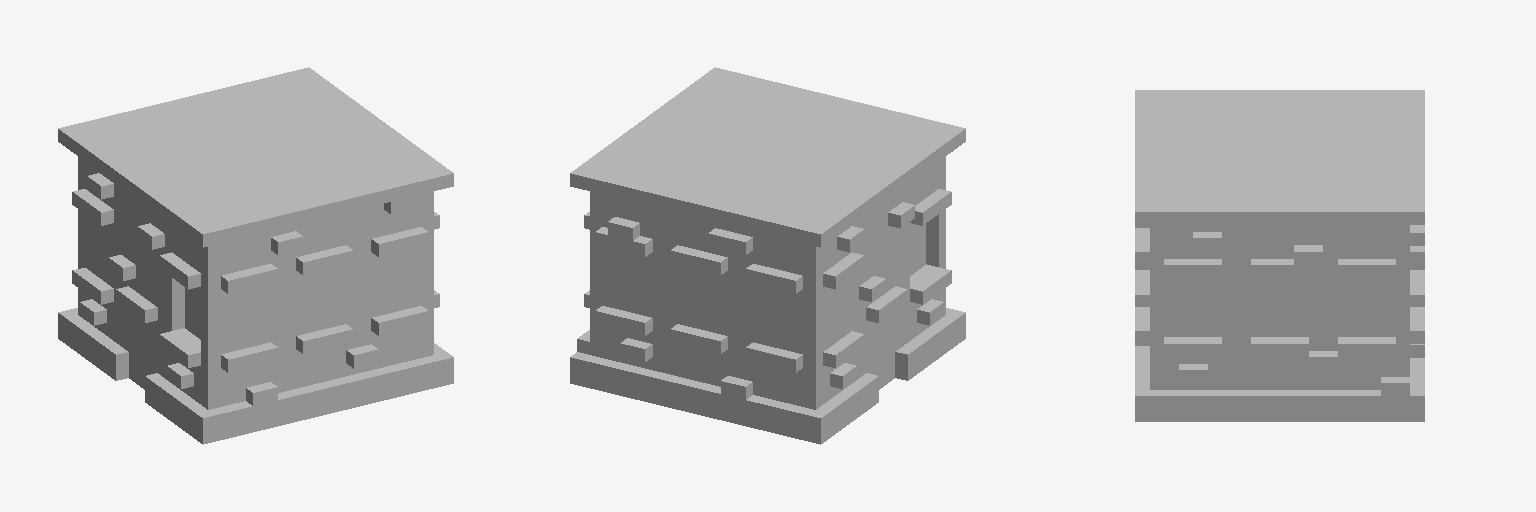
File: cars-0.obj
3 renders of one model, left to right at view 1: azimuth 30°, elevation 25°; view 2: azimuth 150°, elevation 25°; view 3: azimuth 270°, elevation 25°, orthographic.
Parts seen in each view (by area): view 1: object 1; view 2: object 1; view 3: object 1.
Boxes of the visible parts, <box> form: object 1: <box>58,67,453,444</box>; object 1: <box>570,67,965,444</box>; object 1: <box>1135,90,1424,421</box>.
Size of the model in its own units: 2 by 1.6 by 2.